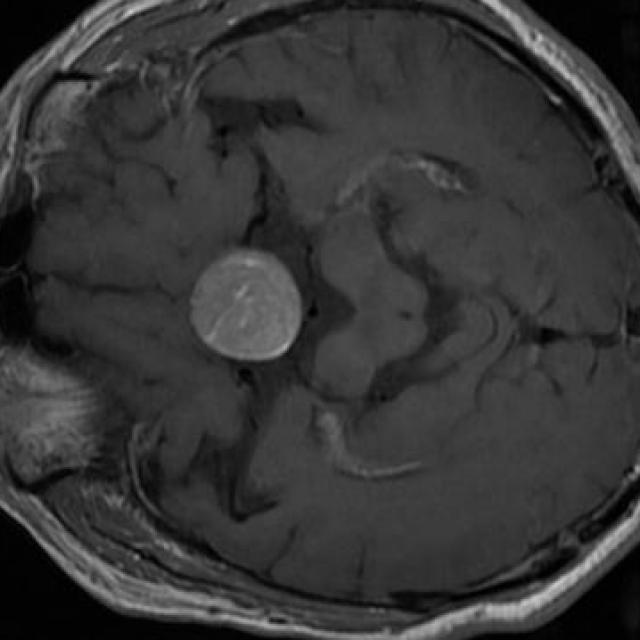pituitary: (187, 248, 303, 364)
